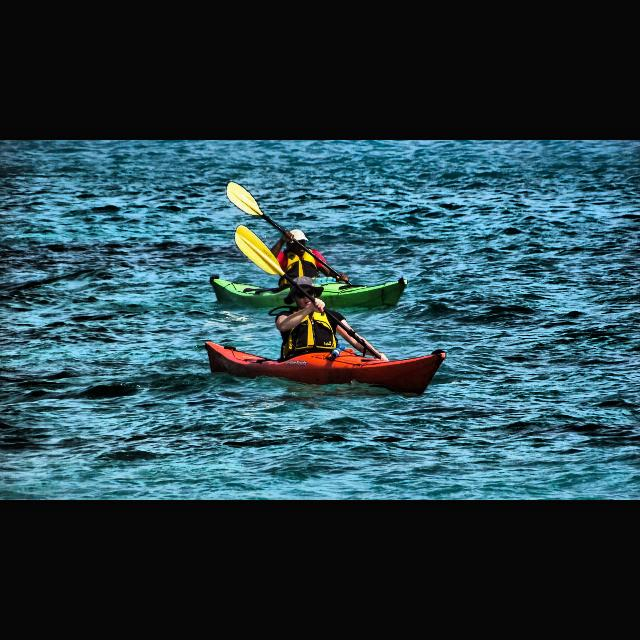kayak: (205, 339, 447, 396), (209, 275, 409, 311)
